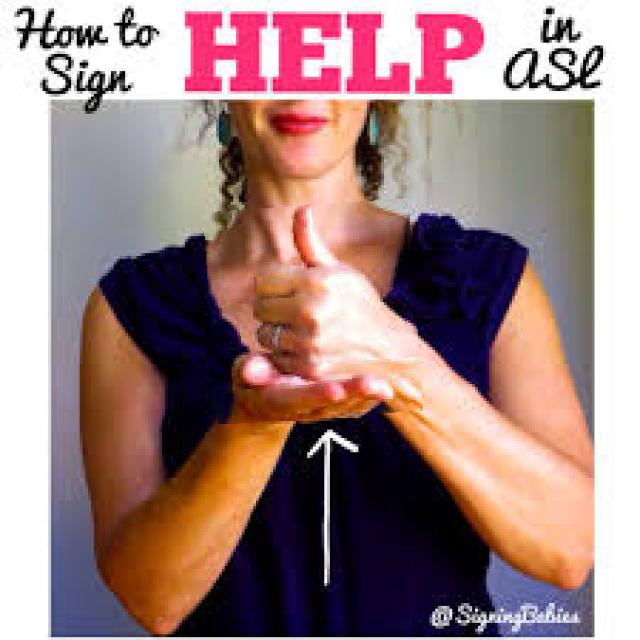Help: (207, 202, 419, 421)
